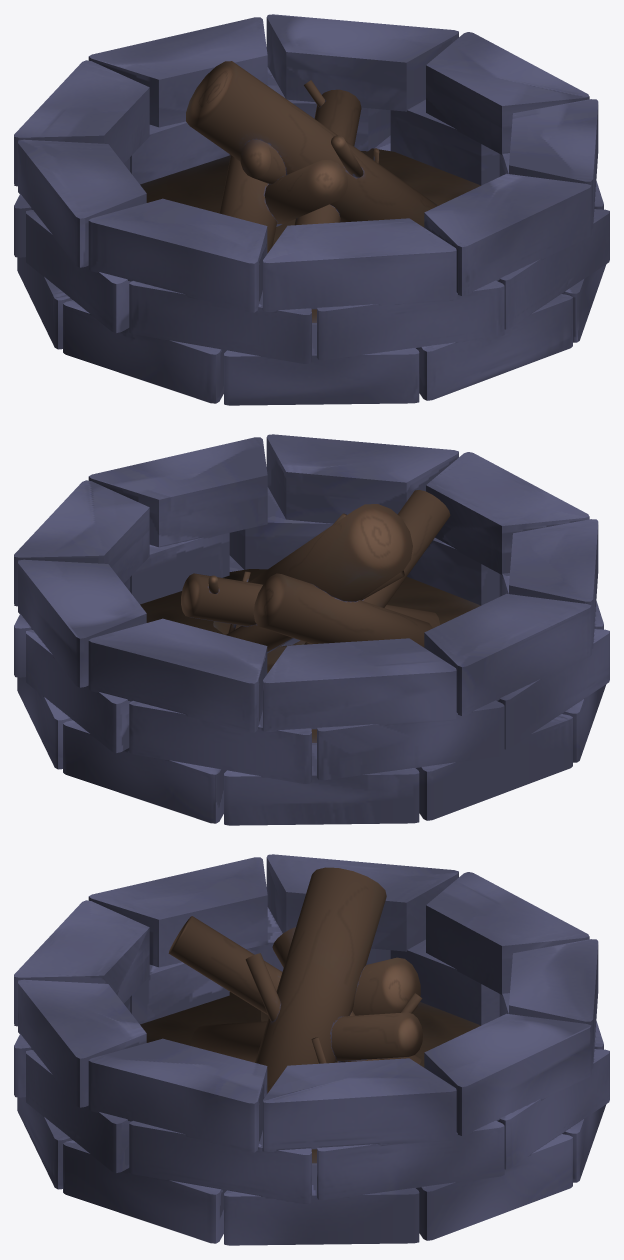
Rendered from Firepit (1).fbx.
The picture shows the model from 3 angles, top to bottom: view 1: azimuth 30°, elevation 25°; view 2: azimuth 150°, elevation 25°; view 3: azimuth 270°, elevation 25°; orthographic projection.
Parts seen in each view (by area): view 1: Firepit; view 2: Firepit; view 3: Firepit.
Part boxes in pixels (x1,y1,x2,y2): Firepit: (14, 14, 609, 405); Firepit: (14, 434, 609, 825); Firepit: (14, 854, 609, 1245).
Size of the model in its own units: 2.82 by 2.84 by 1.18.
Materials: 1 (1 with a texture image).
